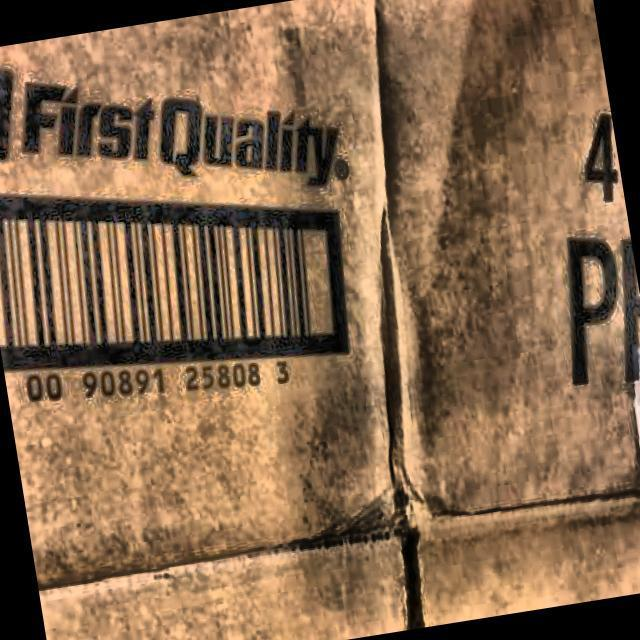cardboard: (0, 0, 463, 591)
